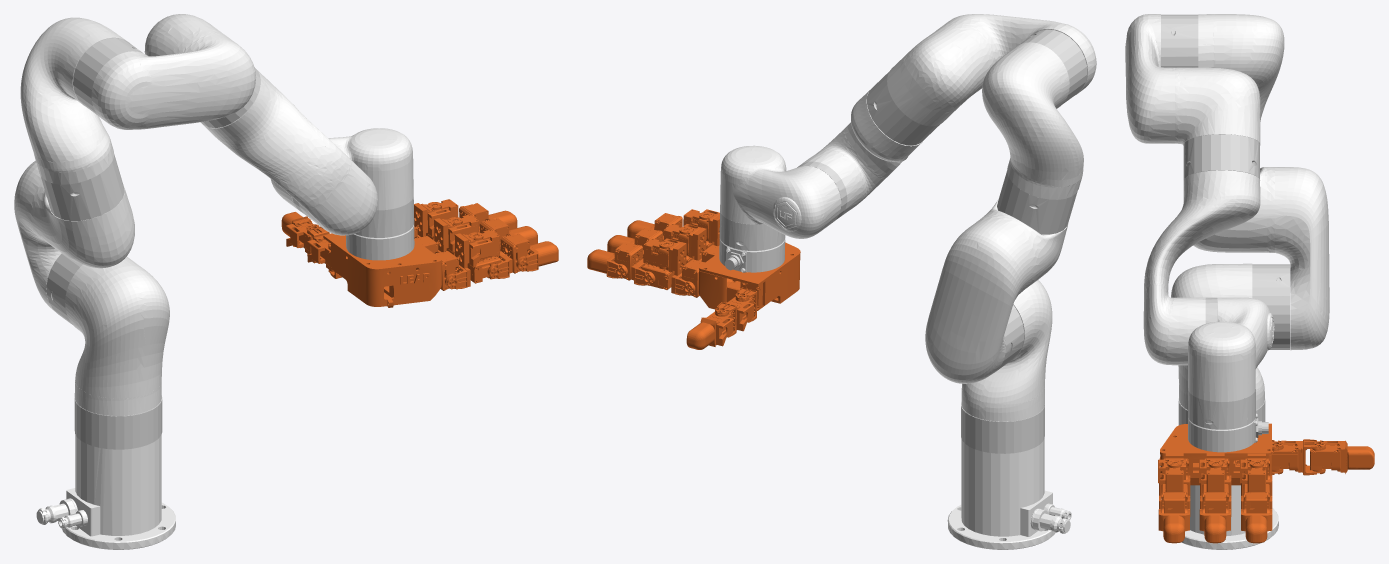
Rendered from xarm7-dex4.glb.
3 views of the same model, side by side, from view 1: azimuth 30°, elevation 25°; view 2: azimuth 150°, elevation 25°; view 3: azimuth 270°, elevation 25° (orthographic). The views are drawn at different scales.
Visible parts, largest first — view 1: xArm7-Dex4.link1.0.visual0.web, xArm7-Dex4.link4.0.visual0.web, xArm7-Dex4.link3.0.visual0.web, xArm7-Dex4.link5.0.visual0.web, xArm7-Dex4.link_base.0.visual1.web, xArm7-Dex4.link2.0.visual0.web, xArm7-Dex4.palm_lower.0.visual0.web, xArm7-Dex4.link6.0.visual0.web, xArm7-Dex4.link_base.0.visual0.web, xArm7-Dex4.mcp_joint_3.0.visual0.web, xArm7-Dex4.link7.0.visual0.web, xArm7-Dex4.dip_3.0.visual0.web (+4 smaller); view 2: xArm7-Dex4.link2.0.visual0.web, xArm7-Dex4.link3.0.visual0.web, xArm7-Dex4.link4.0.visual0.web, xArm7-Dex4.link6.0.visual0.web, xArm7-Dex4.link_base.0.visual1.web, xArm7-Dex4.link1.0.visual0.web, xArm7-Dex4.link5.0.visual0.web, xArm7-Dex4.palm_lower.0.visual0.web, xArm7-Dex4.link_base.0.visual0.web, xArm7-Dex4.mcp_joint.0.visual0.web, xArm7-Dex4.link7.0.visual0.web, xArm7-Dex4.dip.0.visual0.web (+5 smaller); view 3: xArm7-Dex4.link4.0.visual0.web, xArm7-Dex4.link2.0.visual0.web, xArm7-Dex4.link5.0.visual0.web, xArm7-Dex4.link6.0.visual0.web, xArm7-Dex4.link3.0.visual0.web, xArm7-Dex4.link1.0.visual0.web, xArm7-Dex4.palm_lower.0.visual0.web, xArm7-Dex4.link_base.0.visual1.web, xArm7-Dex4.link7.0.visual0.web, xArm7-Dex4.thumb_dip.0.visual0.web, xArm7-Dex4.thumb_fingertip.0.visual1.web, xArm7-Dex4.mcp_joint_3.0.visual0.web (+10 smaller).
Part boxes in pixels (x1,y1,x2,y2): xArm7-Dex4.link1.0.visual0.web: [46, 253, 169, 415]; xArm7-Dex4.link4.0.visual0.web: [91, 14, 260, 129]; xArm7-Dex4.link3.0.visual0.web: [20, 17, 142, 184]; xArm7-Dex4.link5.0.visual0.web: [201, 70, 377, 235]; xArm7-Dex4.link_base.0.visual1.web: [36, 399, 175, 549]; xArm7-Dex4.link2.0.visual0.web: [14, 154, 134, 312]; xArm7-Dex4.palm_lower.0.visual0.web: [323, 226, 458, 307]; xArm7-Dex4.link6.0.visual0.web: [270, 128, 414, 237]; xArm7-Dex4.link_base.0.visual0.web: [74, 395, 162, 449]; xArm7-Dex4.mcp_joint_3.0.visual0.web: [447, 229, 499, 289]; xArm7-Dex4.link7.0.visual0.web: [346, 224, 414, 260]; xArm7-Dex4.dip_3.0.visual0.web: [489, 233, 529, 278]; xArm7-Dex4.link2.0.visual0.web: [925, 170, 1077, 383]; xArm7-Dex4.link3.0.visual0.web: [982, 29, 1087, 199]; xArm7-Dex4.link4.0.visual0.web: [867, 14, 1096, 145]; xArm7-Dex4.link6.0.visual0.web: [719, 145, 841, 250]; xArm7-Dex4.link_base.0.visual1.web: [947, 403, 1071, 549]; xArm7-Dex4.link1.0.visual0.web: [961, 280, 1052, 421]; xArm7-Dex4.link5.0.visual0.web: [797, 90, 923, 221]; xArm7-Dex4.palm_lower.0.visual0.web: [682, 242, 800, 309]; xArm7-Dex4.link_base.0.visual0.web: [961, 402, 1044, 453]; xArm7-Dex4.mcp_joint.0.visual0.web: [643, 238, 694, 295]; xArm7-Dex4.link7.0.visual0.web: [719, 238, 785, 272]; xArm7-Dex4.dip.0.visual0.web: [614, 242, 653, 285]; xArm7-Dex4.link4.0.visual0.web: [1125, 14, 1260, 179]; xArm7-Dex4.link2.0.visual0.web: [1183, 167, 1329, 350]; xArm7-Dex4.link5.0.visual0.web: [1143, 170, 1260, 365]; xArm7-Dex4.link6.0.visual0.web: [1188, 297, 1274, 429]; xArm7-Dex4.link3.0.visual0.web: [1161, 14, 1284, 121]; xArm7-Dex4.link1.0.visual0.web: [1171, 263, 1289, 409]; xArm7-Dex4.palm_lower.0.visual0.web: [1159, 423, 1272, 485]; xArm7-Dex4.link_base.0.visual1.web: [1180, 403, 1278, 549]; xArm7-Dex4.link7.0.visual0.web: [1188, 413, 1268, 452]; xArm7-Dex4.thumb_dip.0.visual0.web: [1272, 439, 1325, 475]; xArm7-Dex4.thumb_fingertip.0.visual1.web: [1310, 440, 1347, 473]; xArm7-Dex4.mcp_joint_3.0.visual0.web: [1158, 453, 1190, 498].
Size of the model in its own units: 0.6289 by 0.6058 by 0.2758.
